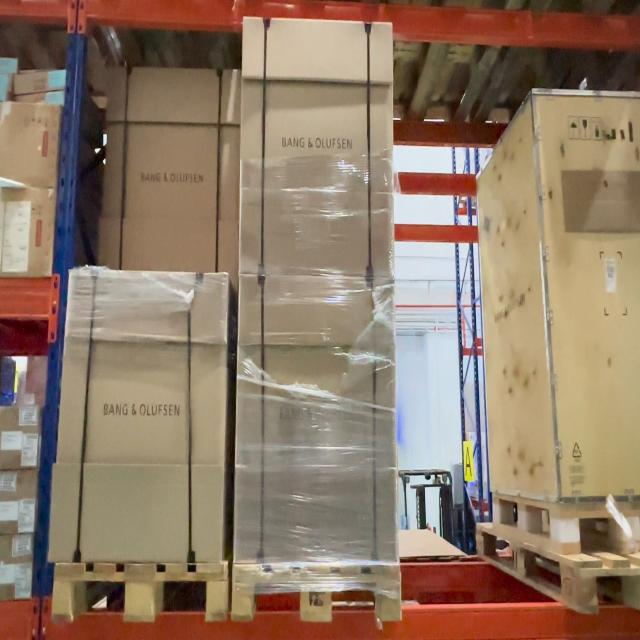box: (47, 265, 231, 562), (231, 271, 395, 563), (238, 17, 395, 279), (98, 68, 242, 291)
